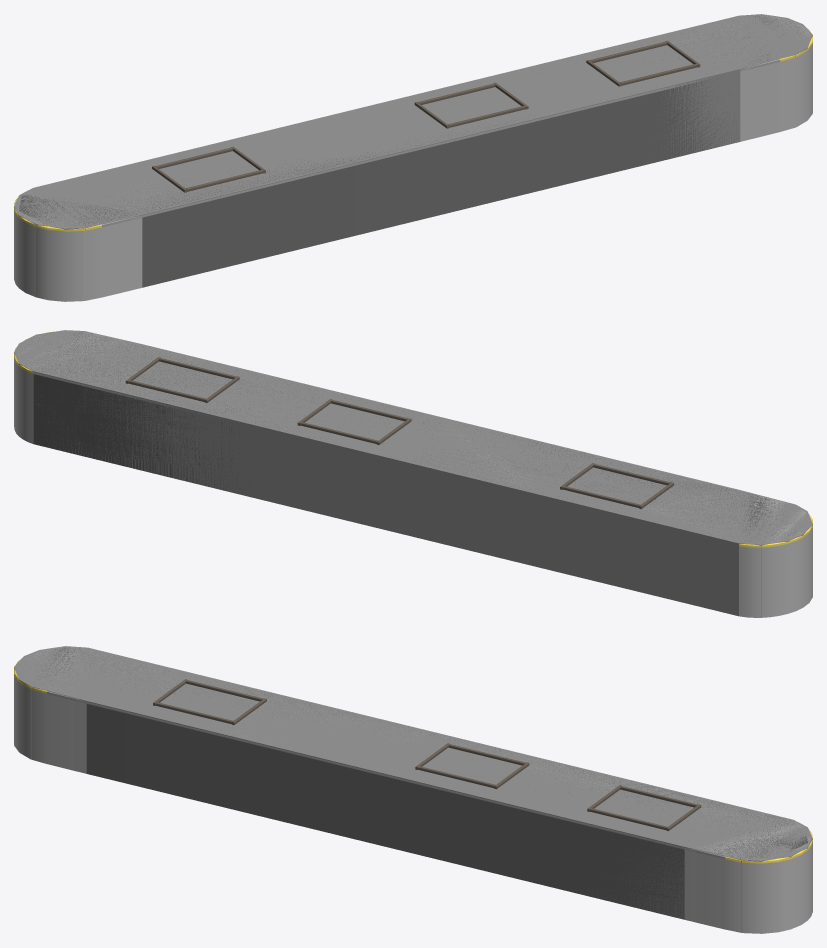
The model's file is eca_gastation_concretebase.DAE.
3 renders of one model, top to bottom at view 1: azimuth 30°, elevation 25°; view 2: azimuth 150°, elevation 25°; view 3: azimuth 330°, elevation 25°, orthographic.
Visible parts, largest first — view 1: Colmesh_eca_gastation_concretebase-1, eca_gastation_concretebase100, eca_gastation_concretebase300, eca_gastation_concretebase200; view 2: Colmesh_eca_gastation_concretebase-1, eca_gastation_concretebase100, eca_gastation_concretebase300, eca_gastation_concretebase200; view 3: eca_gastation_concretebase100, Colmesh_eca_gastation_concretebase-1, eca_gastation_concretebase300, eca_gastation_concretebase200.
Boxes of the visible parts, x1,y1,x2,y2 form: Colmesh_eca_gastation_concretebase-1: [14, 14, 812, 229]; eca_gastation_concretebase100: [19, 15, 797, 287]; eca_gastation_concretebase300: [14, 15, 812, 301]; eca_gastation_concretebase200: [19, 16, 812, 301]; Colmesh_eca_gastation_concretebase-1: [14, 330, 812, 617]; eca_gastation_concretebase100: [28, 332, 795, 541]; eca_gastation_concretebase300: [14, 333, 812, 617]; eca_gastation_concretebase200: [33, 331, 812, 542]; eca_gastation_concretebase100: [38, 647, 807, 919]; Colmesh_eca_gastation_concretebase-1: [14, 646, 812, 919]; eca_gastation_concretebase300: [14, 647, 812, 933]; eca_gastation_concretebase200: [14, 647, 809, 933].
Size of the model in its own units: 29.86 by 3.63 by 2.75.
